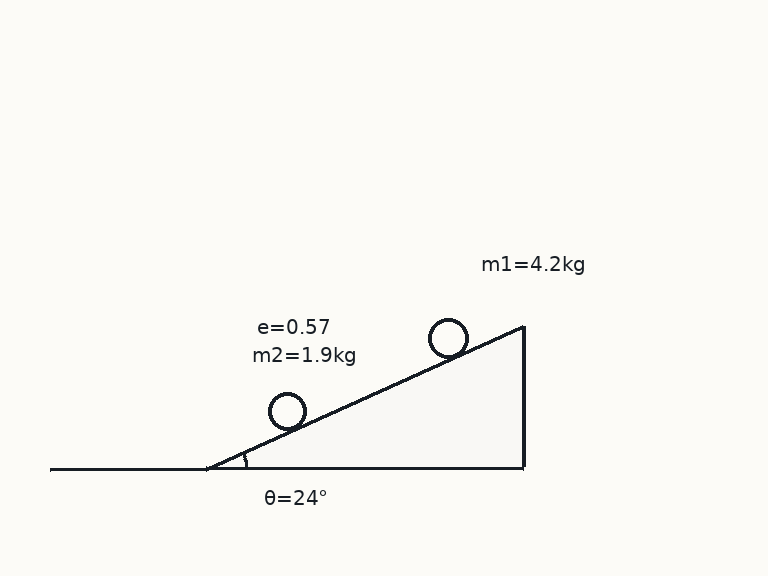ball: (426, 316, 470, 360), (266, 390, 308, 432)
ramp: (204, 325, 525, 470)
